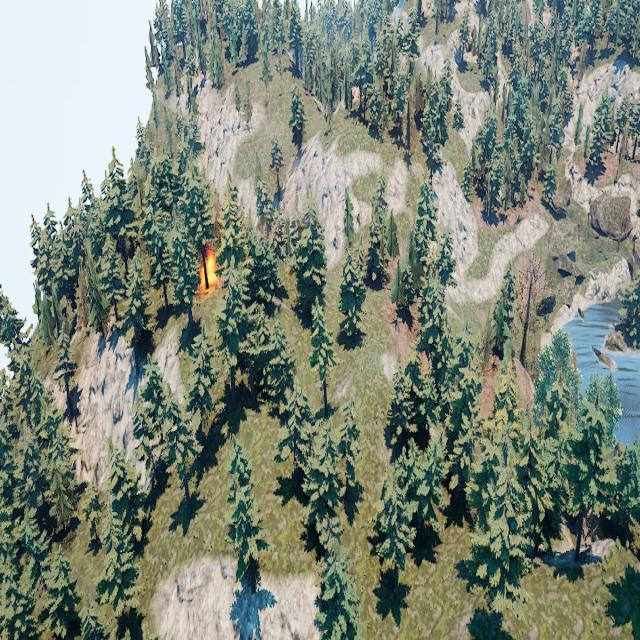fire: (201, 248, 219, 290)
